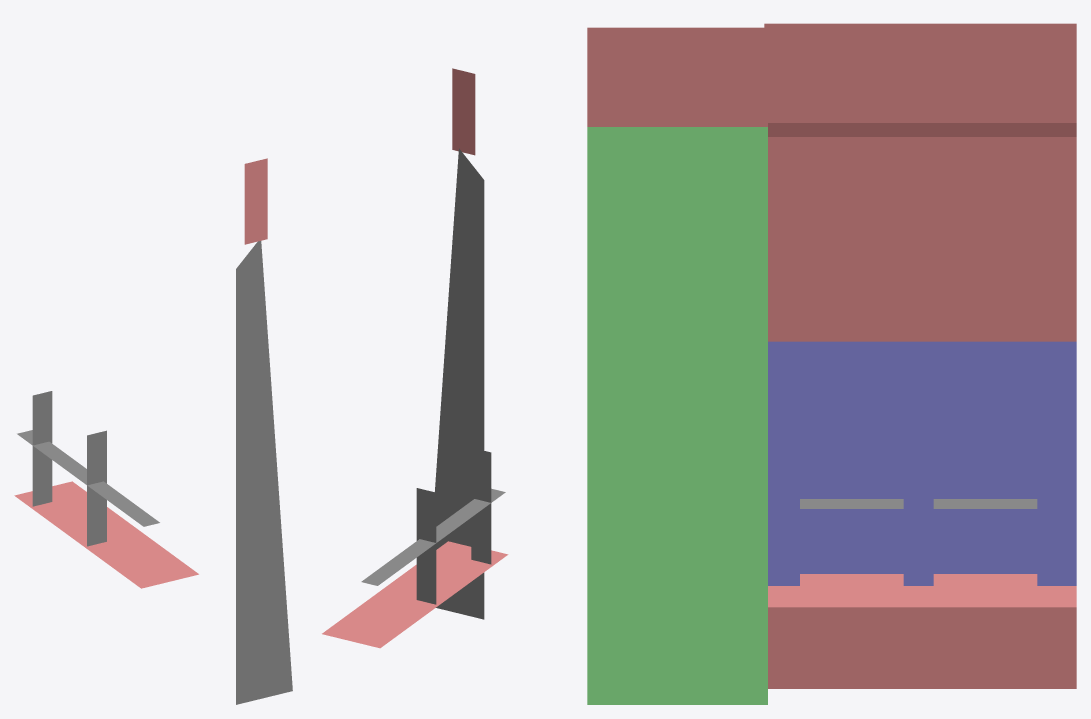
File: SSQ_dungeon_S__SSQ_Room01_Wall04.gltf
The picture shows the model from 3 angles, left to right: view 1: azimuth 30°, elevation 25°; view 2: azimuth 150°, elevation 25°; view 3: azimuth 270°, elevation 25°; orthographic projection. The views are drawn at different scales.
Parts seen in each view (by area): view 1: SSQ_Room01_Wall04; view 2: SSQ_Room01_Wall04; view 3: SSQ_Room01_Wall04.
Boxes of the visible parts, x1=… form: SSQ_Room01_Wall04: x1=14, y1=158, x2=292, y2=704; SSQ_Room01_Wall04: x1=322, y1=68, x2=508, y2=648; SSQ_Room01_Wall04: x1=587, y1=23, x2=1076, y2=704.
Size of the model in its own units: 0.5989 by 3.88 by 2.6.
